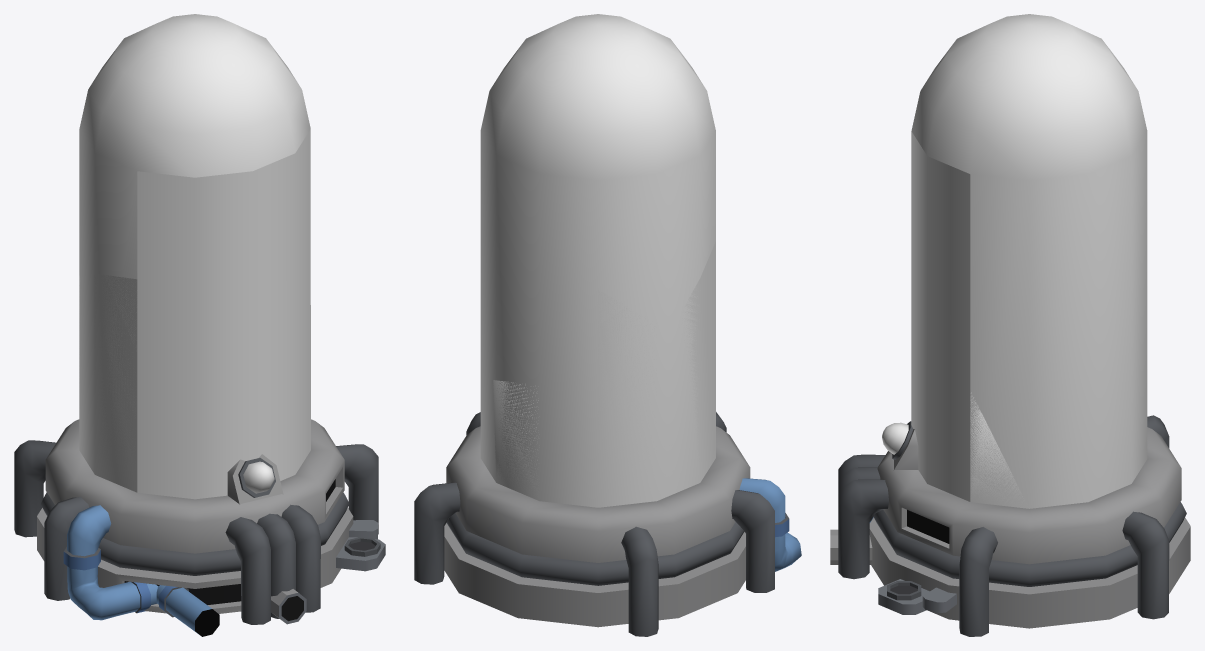
The model's file is cryotube.fbx.
3 renders of one model, left to right at view 1: azimuth 30°, elevation 25°; view 2: azimuth 150°, elevation 25°; view 3: azimuth 270°, elevation 25°, orthographic.
Parts seen in each view (by area): view 1: Cryotube, CryotubeDoor, CryotubeBroken; view 2: Cryotube, CryotubeBroken; view 3: Cryotube, CryotubeDoor, CryotubeBroken.
Part boxes in pixels (x1,y1,x2,y2): Cryotube: [14, 14, 385, 636]; CryotubeDoor: [137, 129, 310, 499]; CryotubeBroken: [47, 273, 306, 633]; Cryotube: [414, 14, 801, 636]; CryotubeBroken: [481, 241, 801, 591]; Cryotube: [838, 14, 1190, 636]; CryotubeDoor: [911, 131, 970, 501]; CryotubeBroken: [830, 392, 1146, 564].
Bounding box in the file's own units: 199 × 319 × 194.
